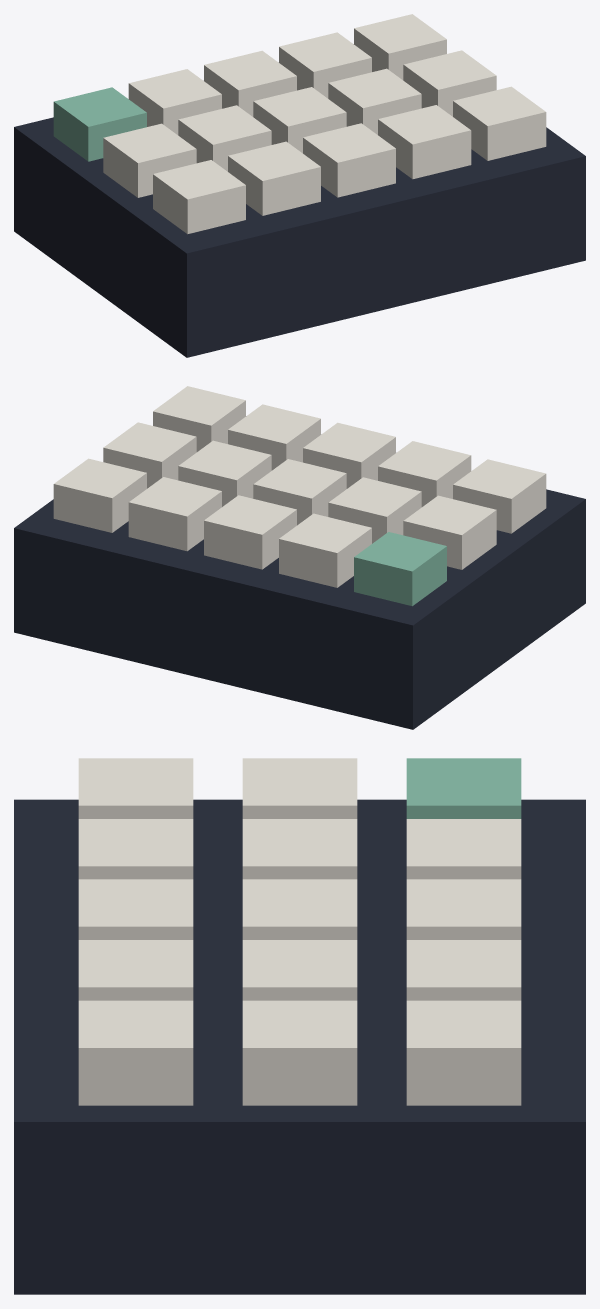
The model's file is stream-deck.glb.
3 renders of one model, top to bottom at view 1: azimuth 30°, elevation 25°; view 2: azimuth 150°, elevation 25°; view 3: azimuth 270°, elevation 25°, orthographic. The views are drawn at different scales.
Visible parts, largest first — view 1: stream-deck; view 2: stream-deck; view 3: stream-deck.
Part boxes in pixels (<box>): stream-deck: <box>14,14,585,357</box>; stream-deck: <box>14,386,585,729</box>; stream-deck: <box>14,758,585,1294</box>.
Bounding box in the file's own units: 12 × 4 × 9.
